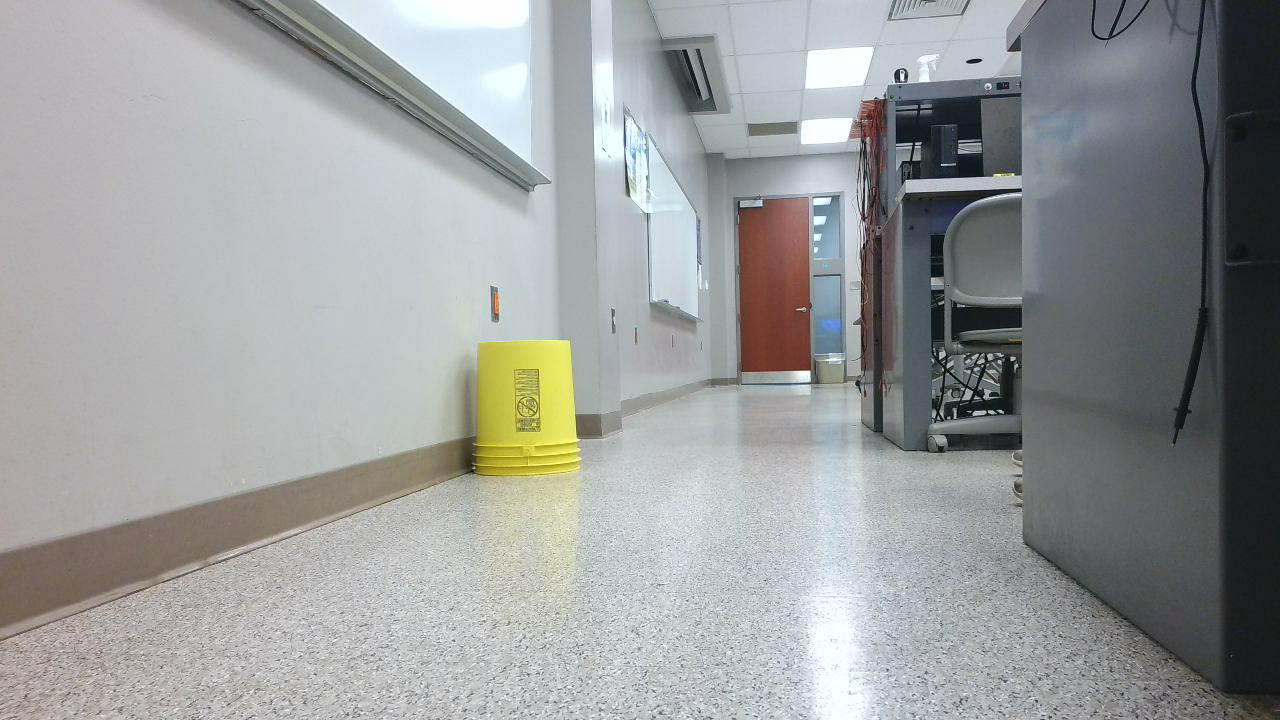yellow_bucket: (470, 340, 592, 489)
